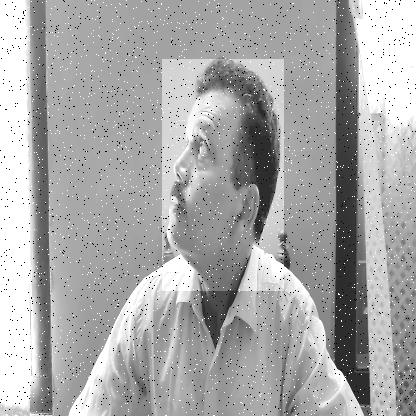Distracted: (162, 60, 284, 292)
